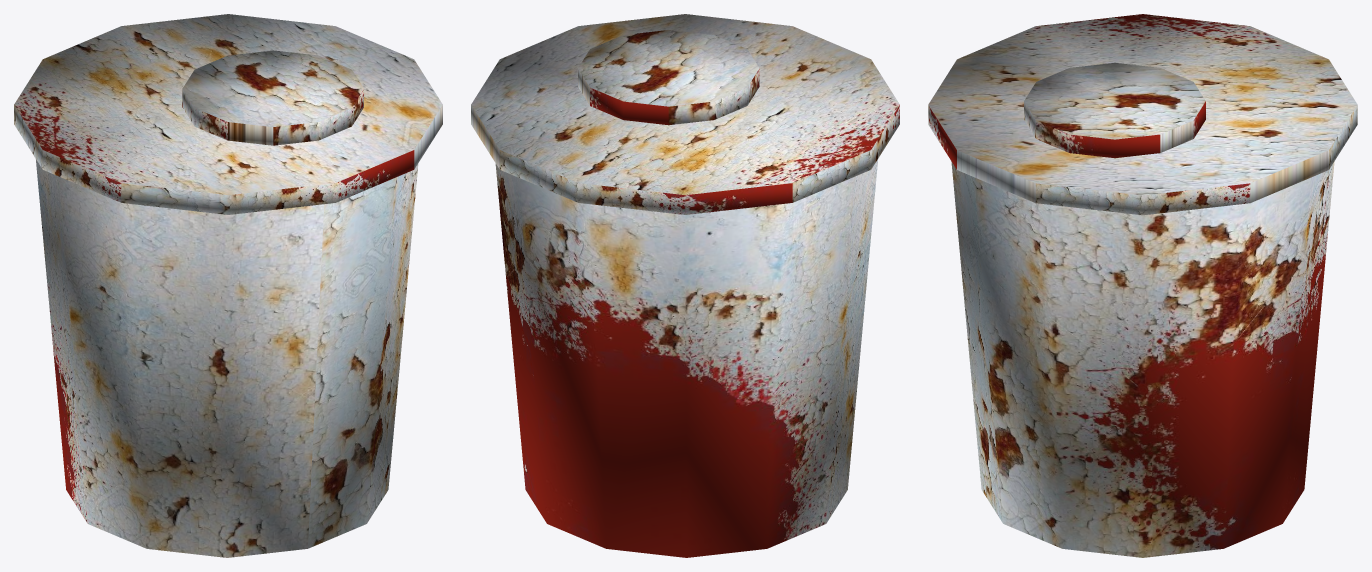
File: URNA.fbx
3 renders of one model, left to right at view 1: azimuth 30°, elevation 25°; view 2: azimuth 150°, elevation 25°; view 3: azimuth 270°, elevation 25°, orthographic.
Parts seen in each view (by area): view 1: URNA; view 2: URNA; view 3: URNA.
Boxes of the visible parts, x1,y1,x2,y2 form: URNA: (14,14,442,557); URNA: (471,14,899,557); URNA: (928,14,1357,557).
Bounding box in the file's own units: 160 × 166 × 160.
1 material, 1 textured.
